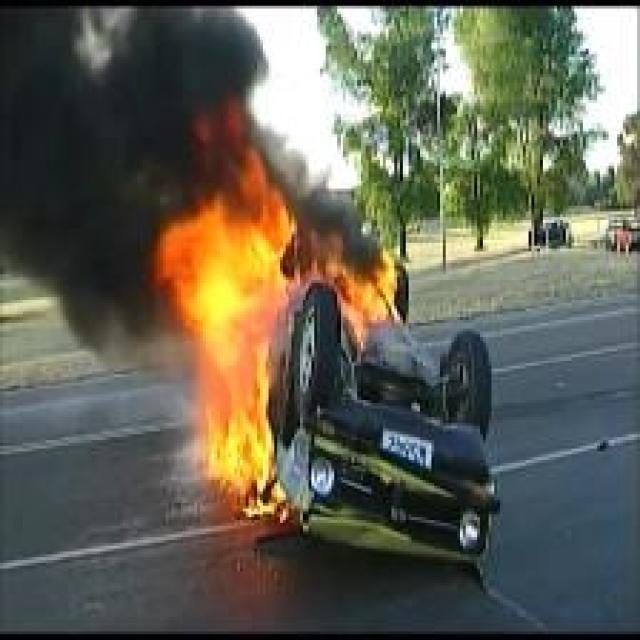Fire: (154, 143, 300, 520), (301, 237, 408, 354)
